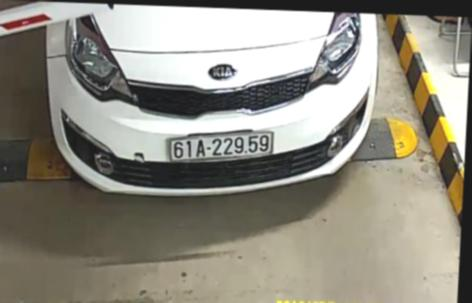License_Plate: (166, 126, 285, 163)
